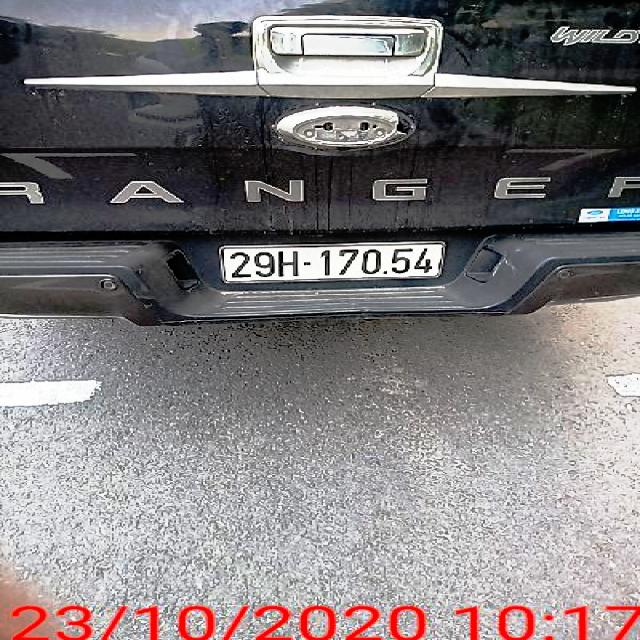license_plate: (222, 244, 442, 284)
